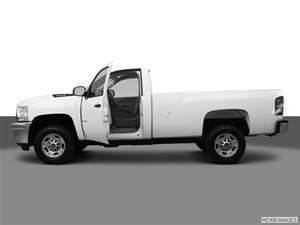car: (12, 59, 292, 169)
